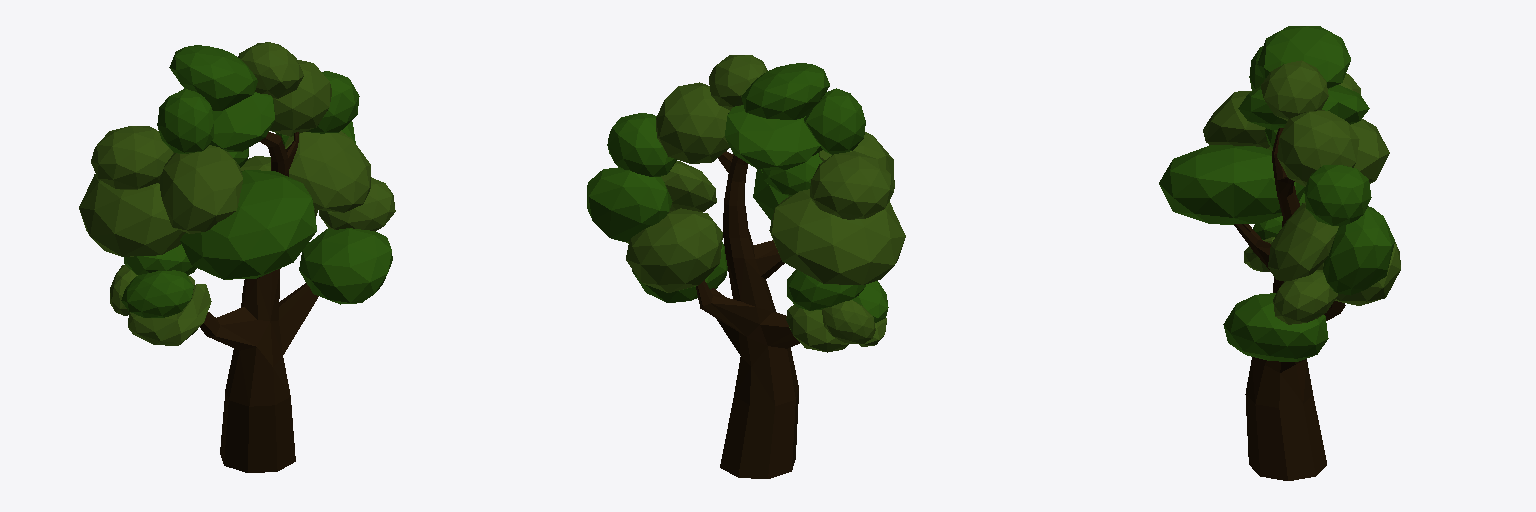
The model's file is TriOak.obj.
The picture shows the model from 3 angles: view 1: azimuth 30°, elevation 25°; view 2: azimuth 150°, elevation 25°; view 3: azimuth 270°, elevation 25°; orthographic projection.
Visible parts, largest first — view 1: Oak_Cylinder.004; view 2: Oak_Cylinder.004; view 3: Oak_Cylinder.004.
Boxes of the visible parts, <box> form: Oak_Cylinder.004: <box>79,42,395,472</box>; Oak_Cylinder.004: <box>587,55,905,478</box>; Oak_Cylinder.004: <box>1159,26,1400,480</box>.
Size of the model in its own units: 3.96 by 5.31 by 2.84.